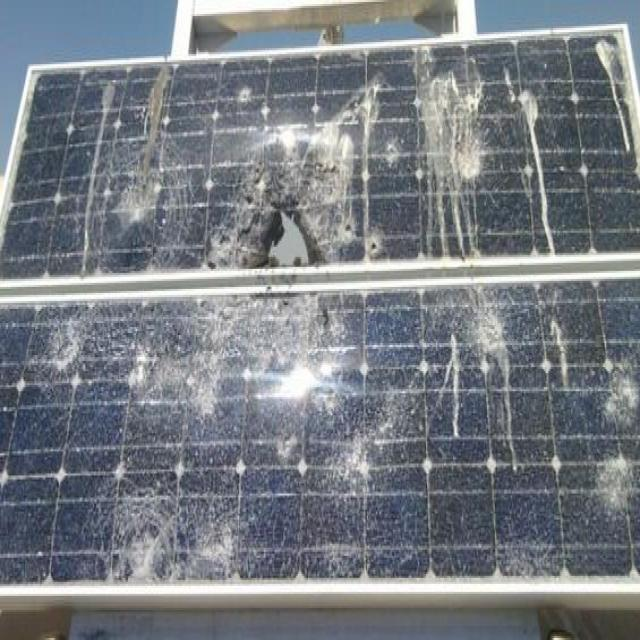cracked: (2, 299, 638, 582), (1, 26, 637, 289)
